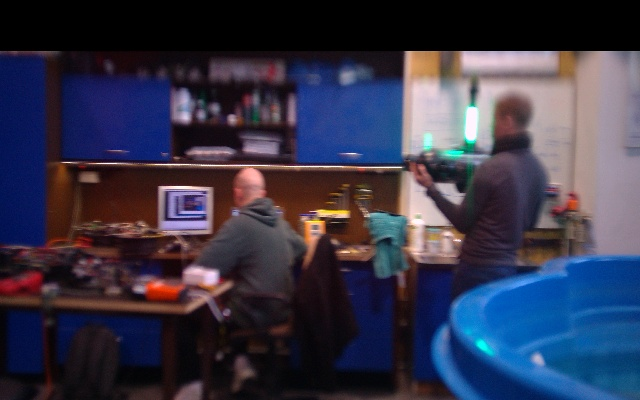green: (465, 105, 479, 148)
